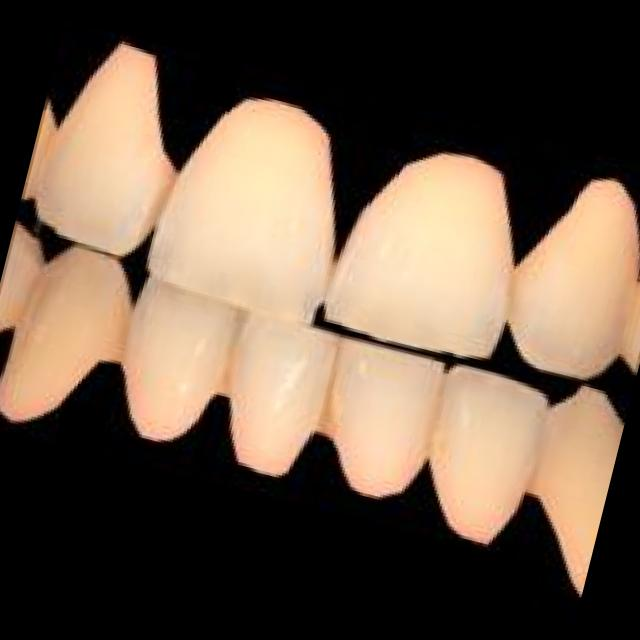cavity: (5, 252, 60, 342), (144, 160, 185, 240), (308, 373, 352, 434), (101, 304, 142, 364)
tooth: (147, 58, 380, 327), (314, 122, 533, 364), (23, 15, 211, 270), (492, 158, 640, 394), (0, 223, 129, 439), (412, 359, 552, 553), (515, 376, 629, 594), (106, 276, 242, 456), (203, 308, 340, 484), (311, 338, 448, 511)
